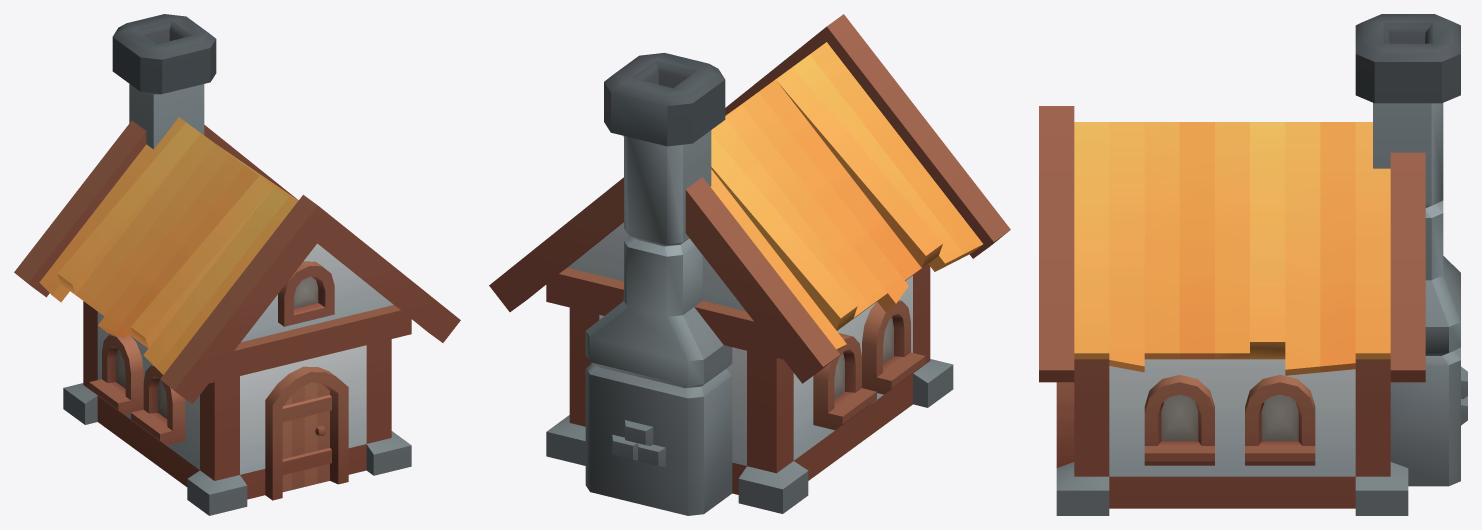
The model's file is kay-casa-amarela.gltf.
3 views of the same model, side by side, from view 1: azimuth 30°, elevation 25°; view 2: azimuth 150°, elevation 25°; view 3: azimuth 270°, elevation 25° (orthographic). The views are drawn at different scales.
Parts seen in each view (by area): view 1: building_home_A_yellow; view 2: building_home_A_yellow; view 3: building_home_A_yellow.
Part boxes in pixels (x1,y1,x2,y2): building_home_A_yellow: (14,14,460,515); building_home_A_yellow: (489,14,1010,515); building_home_A_yellow: (1039,14,1467,515).
Size of the model in its own units: 3.96 by 4.65 by 4.27.
1 material, 1 textured.
